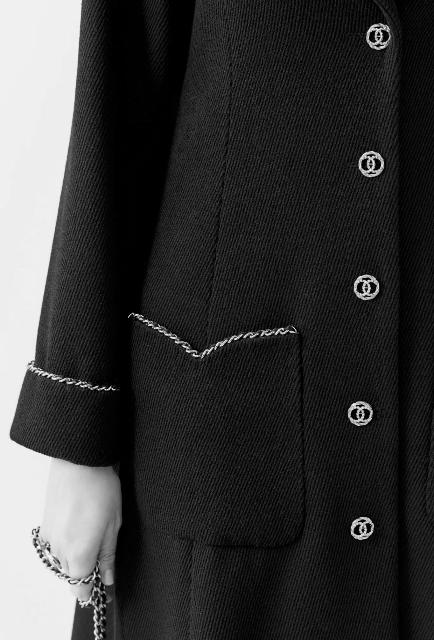Chanel: (355, 273, 385, 307), (356, 148, 386, 180), (364, 23, 396, 53), (347, 516, 382, 542), (348, 399, 376, 428)
